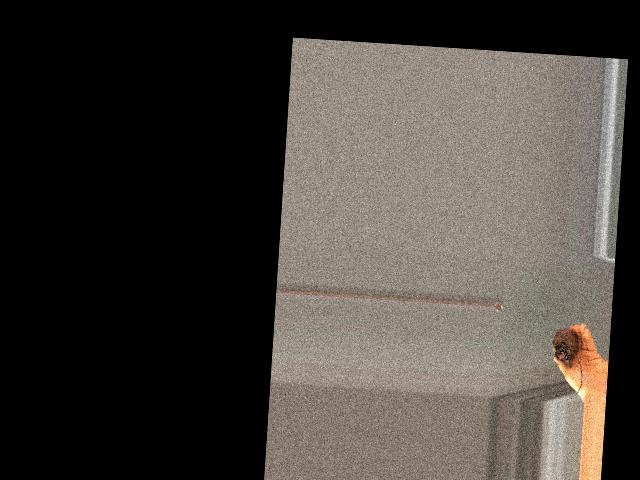beet: (549, 318, 586, 397)
